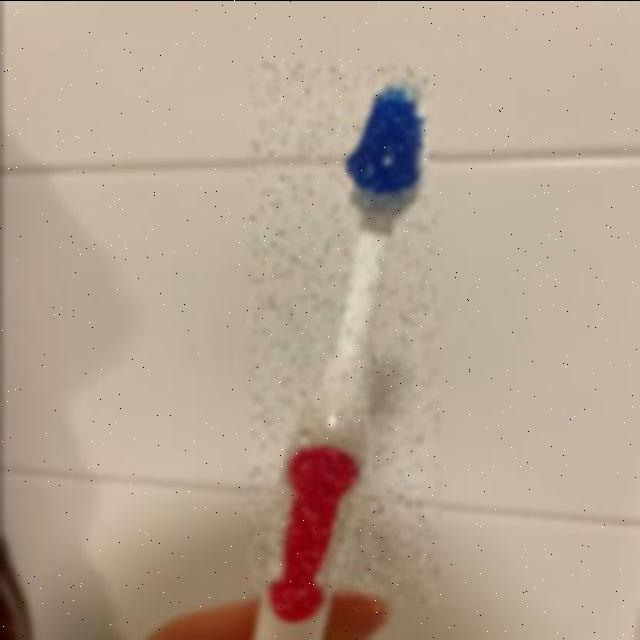toothbrush: (248, 64, 437, 608)
